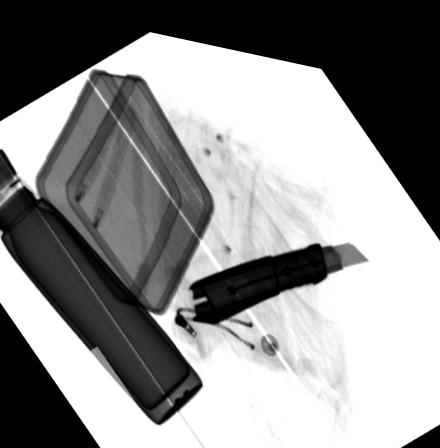Knife: (186, 223, 370, 315)
